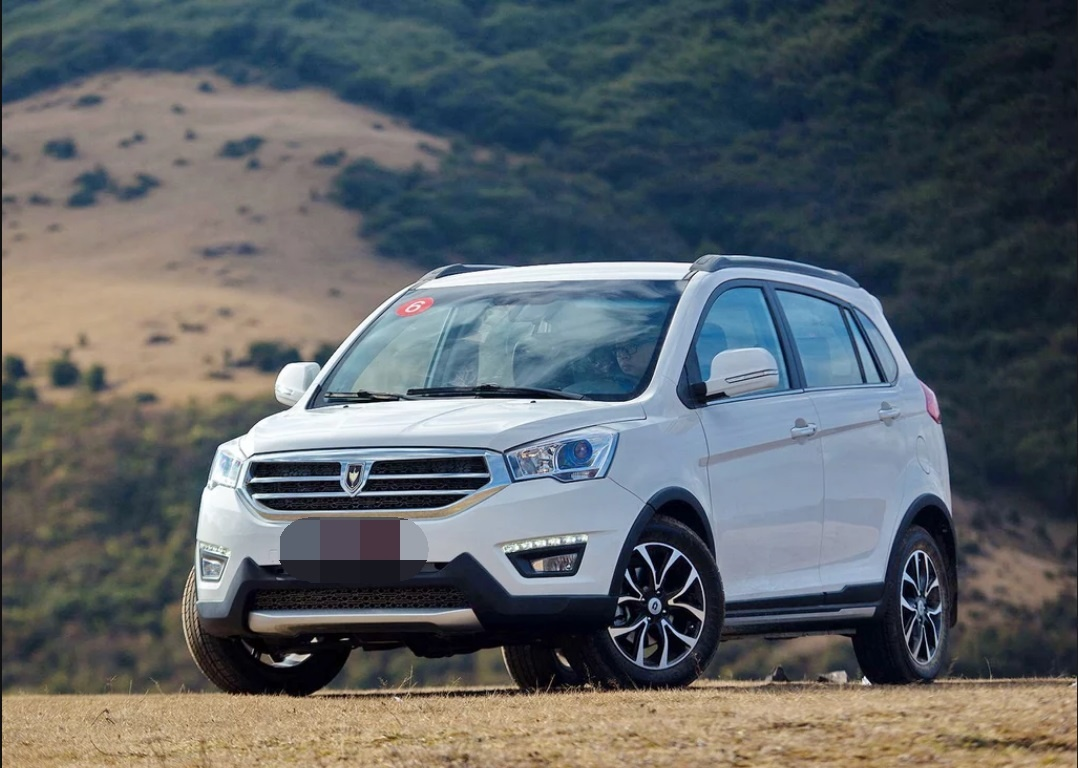SUV: (212, 187, 946, 697)
